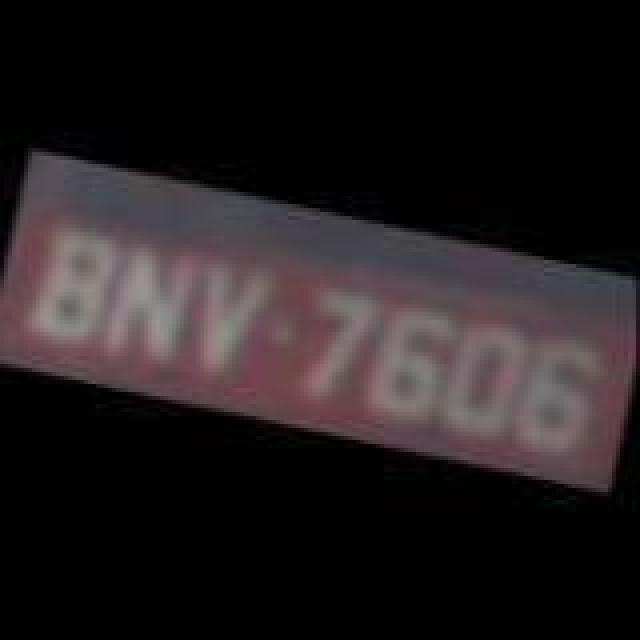6: (356, 298, 464, 434), (508, 330, 612, 462)
7: (286, 278, 382, 410)
B: (14, 216, 126, 360)
N: (94, 236, 206, 376)
O: (428, 312, 540, 444)
V: (174, 250, 286, 394)
